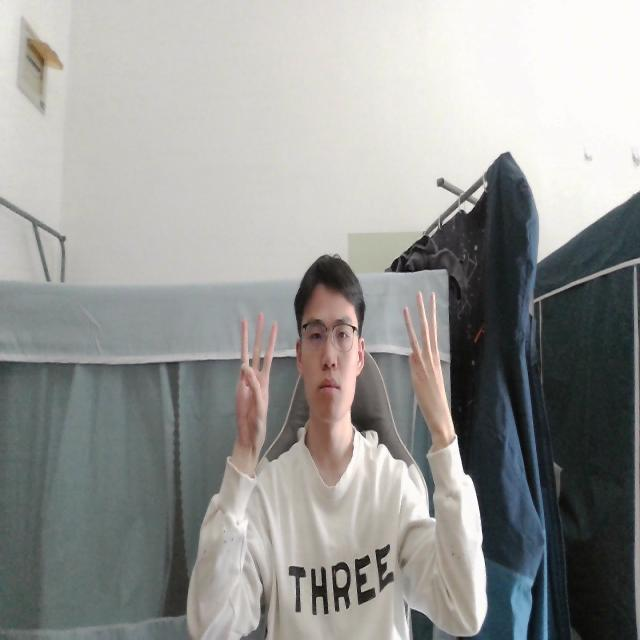three: (404, 290, 451, 438), (233, 310, 279, 449)
